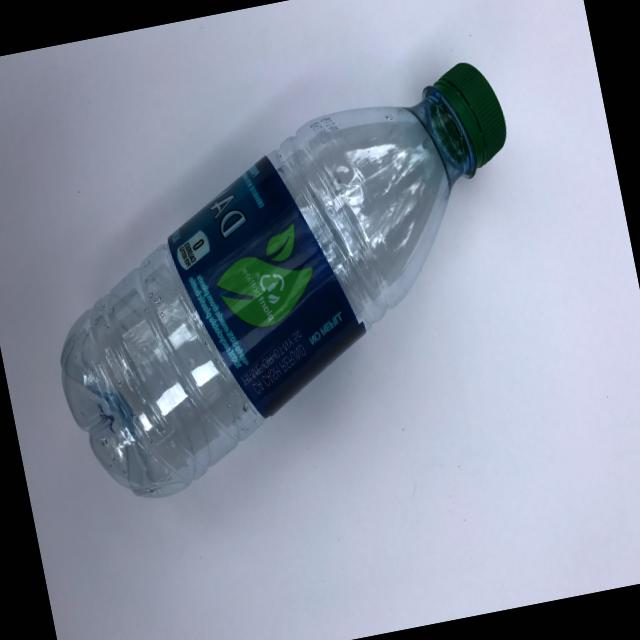Plastic: (2, 43, 606, 530)
